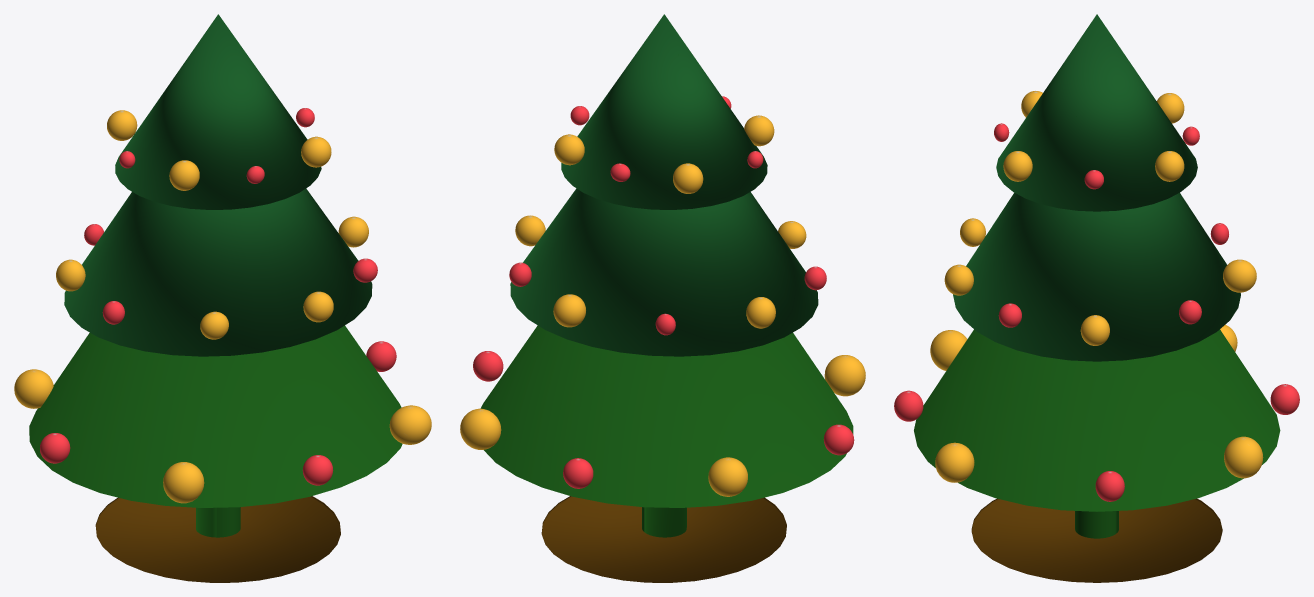
The model's file is asset.gltf.
3 views of the same model, side by side, from view 1: azimuth 30°, elevation 25°; view 2: azimuth 150°, elevation 25°; view 3: azimuth 270°, elevation 25° (orthographic).
Parts seen in each view (by area): view 1: Cone.001; view 2: Cone.001; view 3: Cone.001.
Boxes of the visible parts, x1,y1,x2,y2 form: Cone.001: [14, 14, 431, 582]; Cone.001: [460, 14, 865, 582]; Cone.001: [894, 14, 1299, 582].
Size of the model in its own units: 4.99 by 6.74 by 4.79.
Materials: 29 (29 with a texture image).
